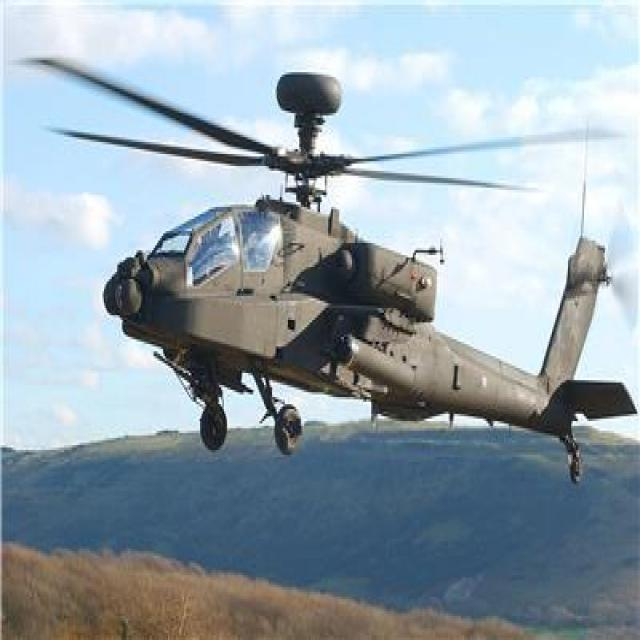MIL_HELO: (25, 46, 640, 503)
